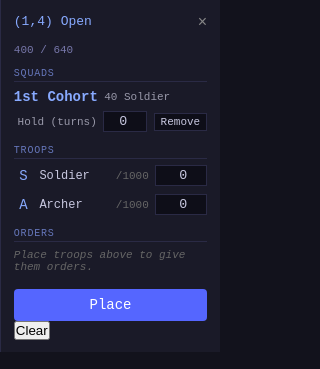
loose Troops max-count is clamped by squads already on this hex › a 400-point squad leaves only 240 points (24 Soldiers) of loose room
The width and height of the screenshot is (320, 369).
Replace the text in the number field with test id "count-Soldier" with "25" at (181, 176), box top-left (155, 165), bottom-right (207, 186)
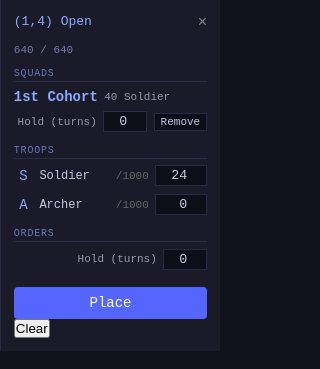
Expected: the number field with test id "count-Soldier" holds "24", top-left (155, 165), bottom-right (207, 186)
